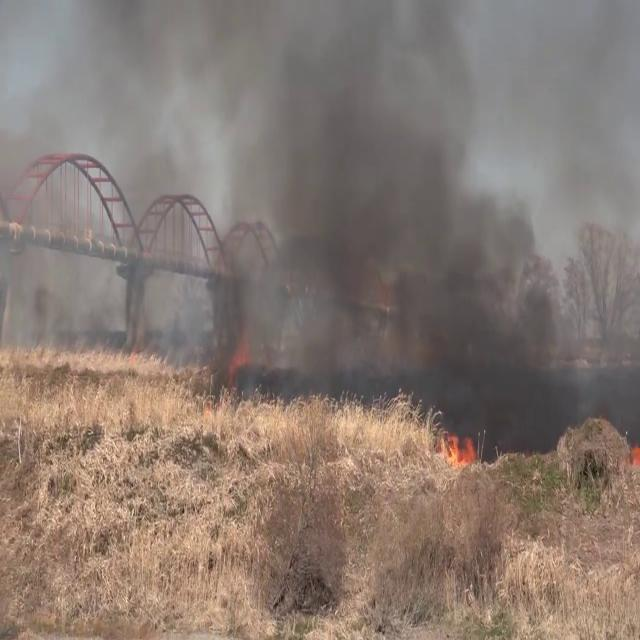Fire: (436, 422, 477, 470)
Smoke: (0, 0, 636, 445)
